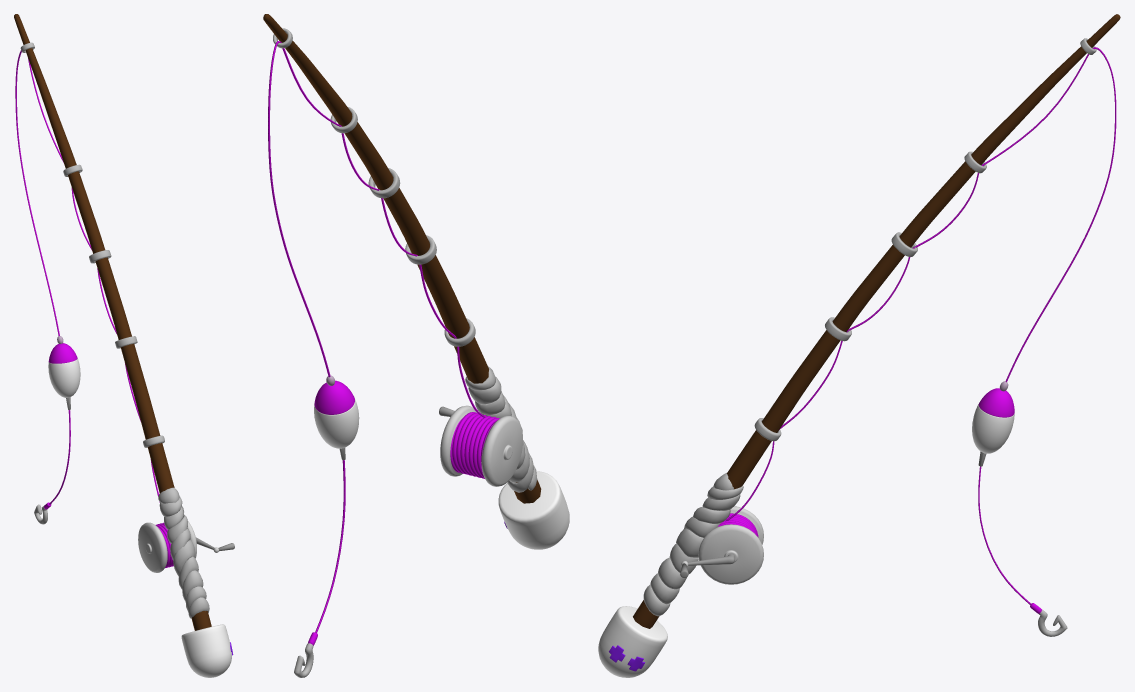
Rendered from canna da pesca.fbx.
The picture shows the model from 3 angles, left to right: view 1: azimuth 30°, elevation 25°; view 2: azimuth 150°, elevation 25°; view 3: azimuth 270°, elevation 25°; orthographic projection. The views are drawn at different scales.
Visible parts, largest first — view 1: Sphere; view 2: Sphere; view 3: Sphere.
Part boxes in pixels (bbox=[...]): Sphere: bbox=[14, 14, 234, 677]; Sphere: bbox=[263, 14, 569, 677]; Sphere: bbox=[598, 14, 1120, 677].
Size of the model in its own units: 53.66 by 396 by 283.
Materials: 3 (3 with a texture image).
